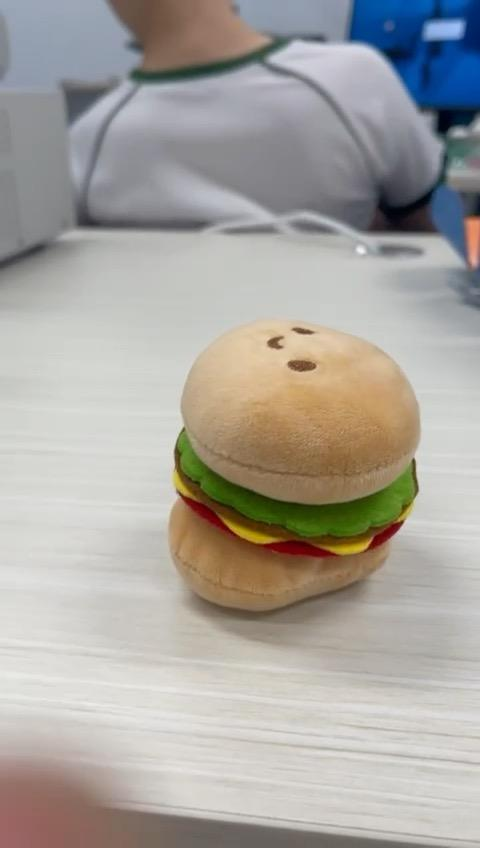hamburger: (167, 319, 423, 614)
